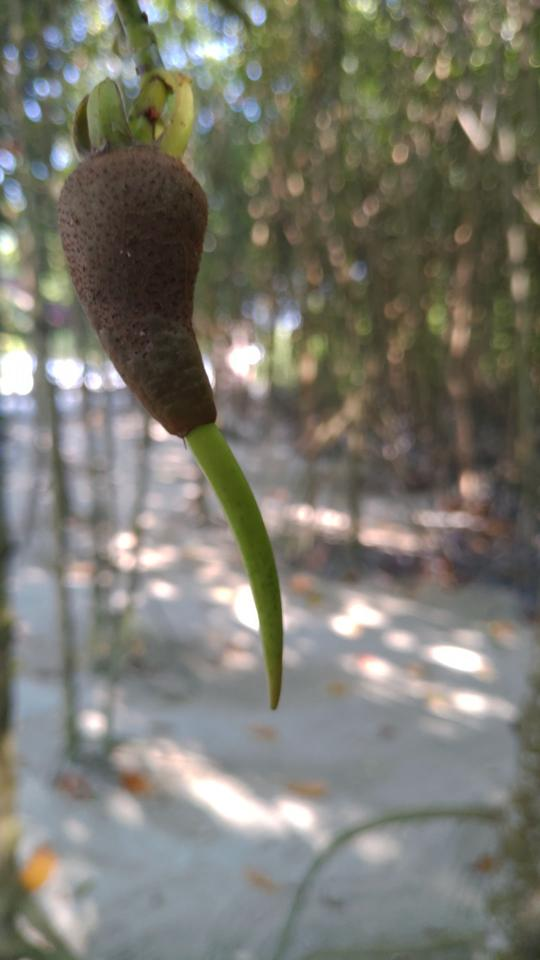mentah: (49, 67, 308, 732)
